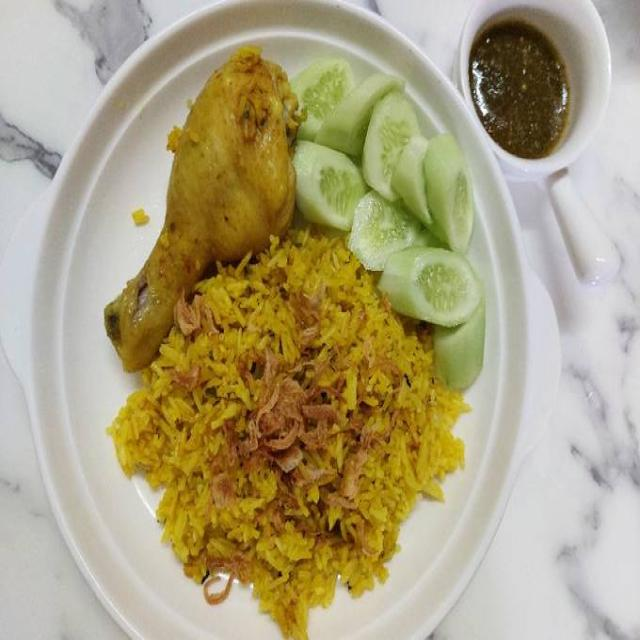Carbohydrate: (107, 234, 464, 640)
Kaow-Mokkai: (66, 11, 532, 640)
Protein: (106, 44, 297, 374)
Vegetable: (291, 46, 494, 394)
